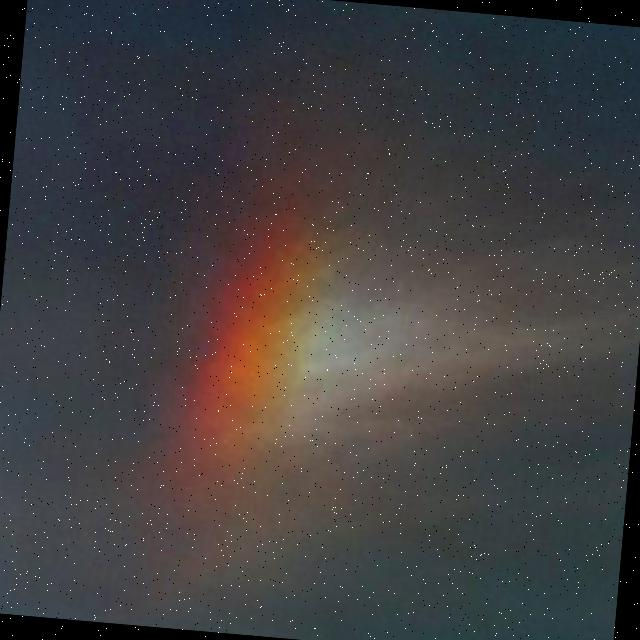Ci: (1, 1, 640, 597)
